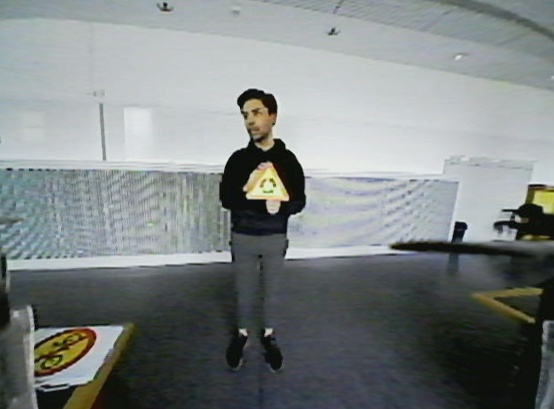roundabout_warning: (238, 159, 294, 206)
